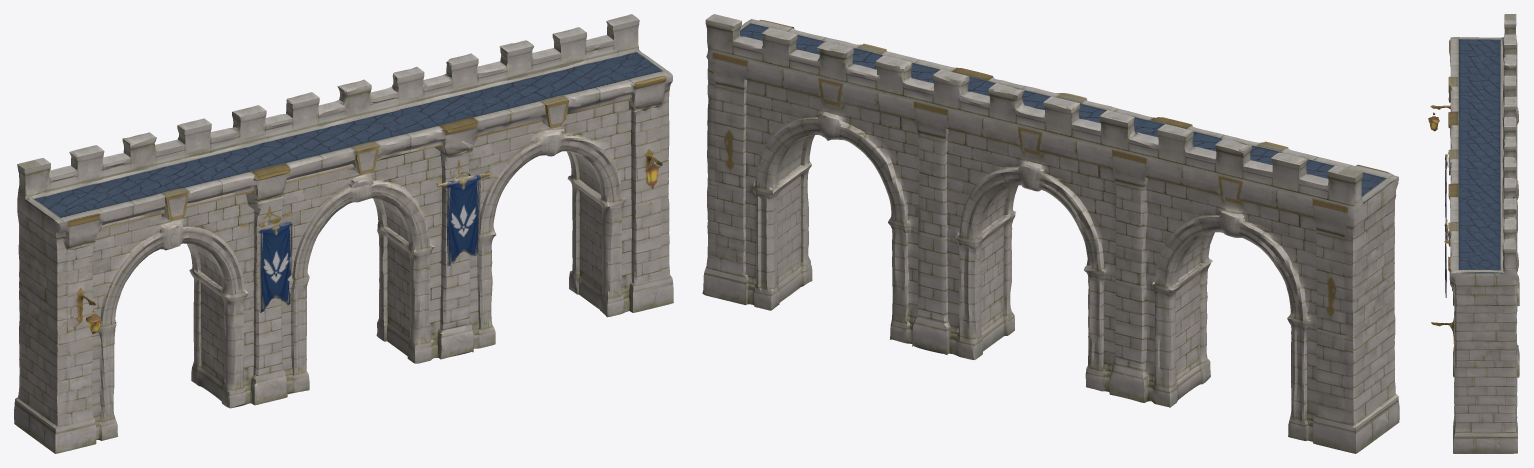
File: cloudreach_aviary_curtain_arcade.glb
3 views of the same model, side by side, from view 1: azimuth 30°, elevation 25°; view 2: azimuth 150°, elevation 25°; view 3: azimuth 270°, elevation 25° (orthographic). The views are drawn at different scales.
Visible parts, largest first — view 1: Mesh_0; view 2: Mesh_0; view 3: Mesh_0.
Part boxes in pixels (x1,y1,x2,y2): Mesh_0: [14, 14, 673, 453]; Mesh_0: [702, 14, 1399, 453]; Mesh_0: [1428, 14, 1519, 453].
Size of the model in its own units: 22 by 8.85 by 3.58.
Materials: 1 (1 with a texture image).
